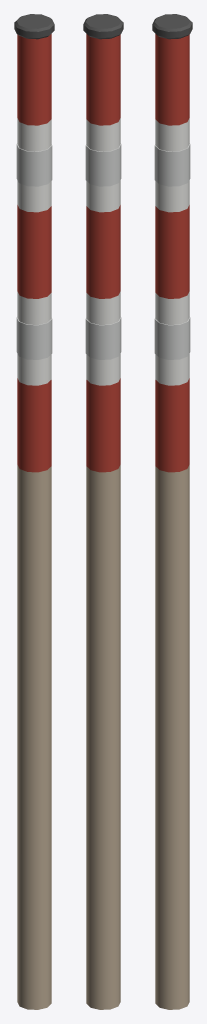
Rendered from snow_pole.glb.
The picture shows the model from 3 angles, left to right: view 1: azimuth 30°, elevation 25°; view 2: azimuth 150°, elevation 25°; view 3: azimuth 330°, elevation 25°; orthographic projection.
Visible parts, largest first — view 1: static; view 2: static; view 3: static.
Part boxes in pixels (left/top/right/bottom): static: left=14, top=14, right=54, bottom=1009; static: left=83, top=14, right=123, bottom=1009; static: left=152, top=14, right=192, bottom=1009.
Size of the model in its own units: 0.106 by 2.83 by 0.1008.
